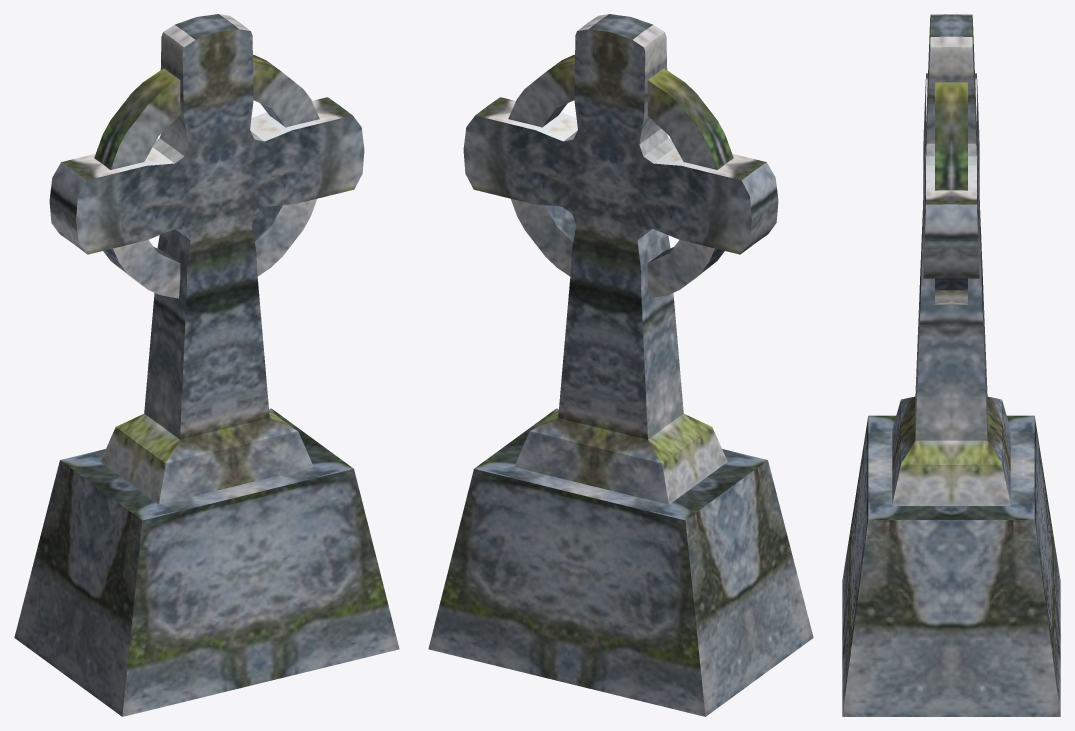
Rendered from Tombstone.obj.
3 renders of one model, left to right at view 1: azimuth 30°, elevation 25°; view 2: azimuth 150°, elevation 25°; view 3: azimuth 270°, elevation 25°, orthographic.
Visible parts, largest first — view 1: Cube; view 2: Cube; view 3: Cube.
Boxes of the visible parts, x1,y1,x2,y2 form: Cube: (14,14,399,716); Cube: (428,14,813,716); Cube: (842,14,1060,716).
Bounding box in the file's own units: 0.5202 × 1.07 × 0.3375.
1 material, 1 textured.
